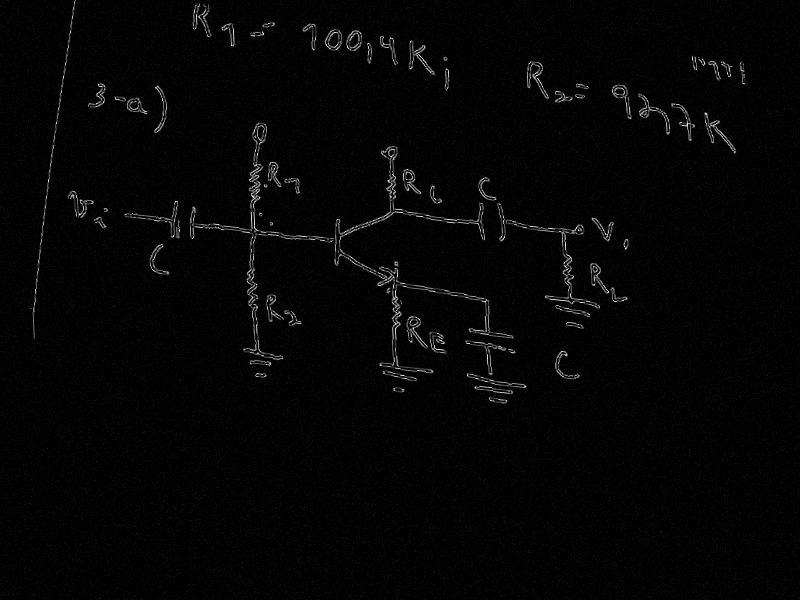-: (248, 28, 266, 39), (574, 80, 590, 90), (262, 19, 276, 30), (114, 94, 127, 103), (574, 92, 587, 100)
0: (323, 26, 343, 53), (344, 27, 364, 53)
1: (301, 20, 319, 53), (282, 173, 303, 198), (220, 21, 238, 48), (707, 59, 722, 82)
2: (282, 307, 304, 330), (553, 89, 575, 106)
3: (636, 90, 672, 136), (83, 79, 108, 112)
4: (378, 33, 399, 67)
7: (670, 101, 697, 142)
9: (611, 82, 633, 121)
V: (64, 189, 96, 222), (589, 214, 615, 243)
k: (702, 111, 736, 155), (407, 38, 436, 76)
